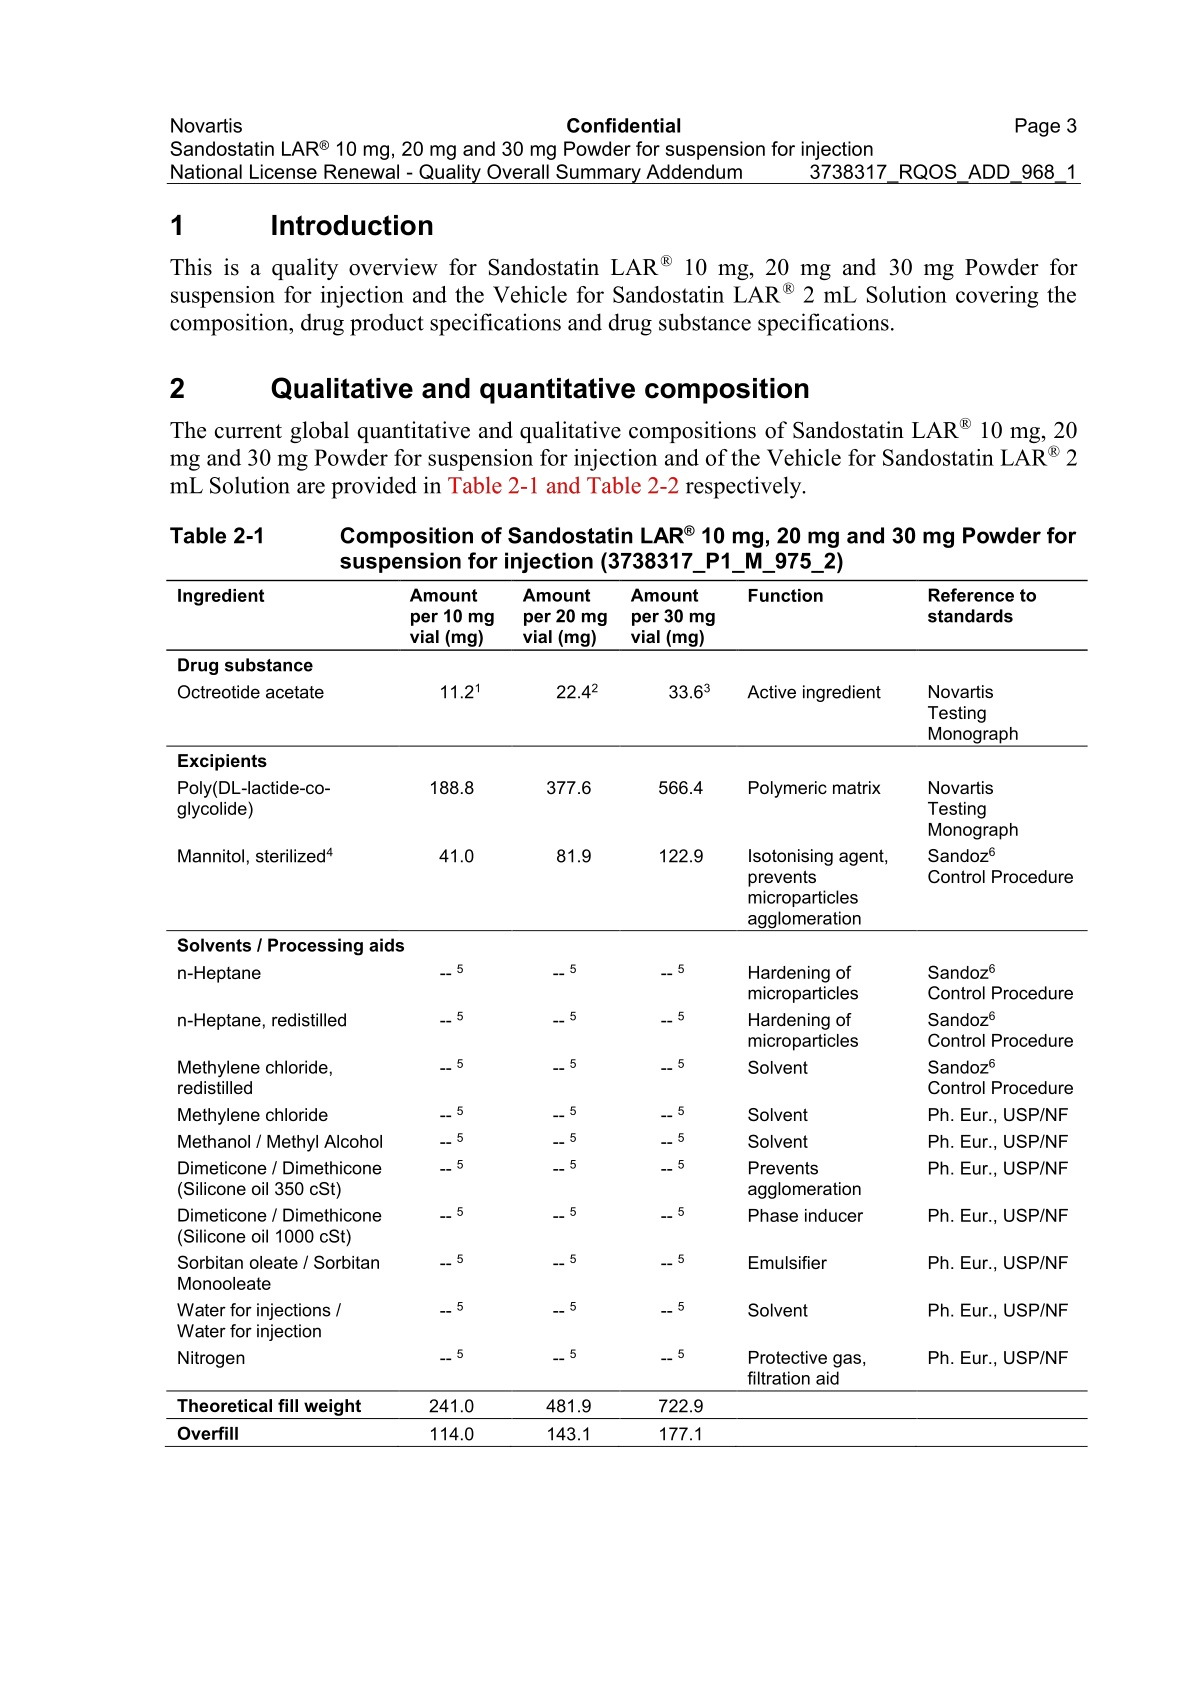partial_lined: (165, 577, 1087, 1447)
